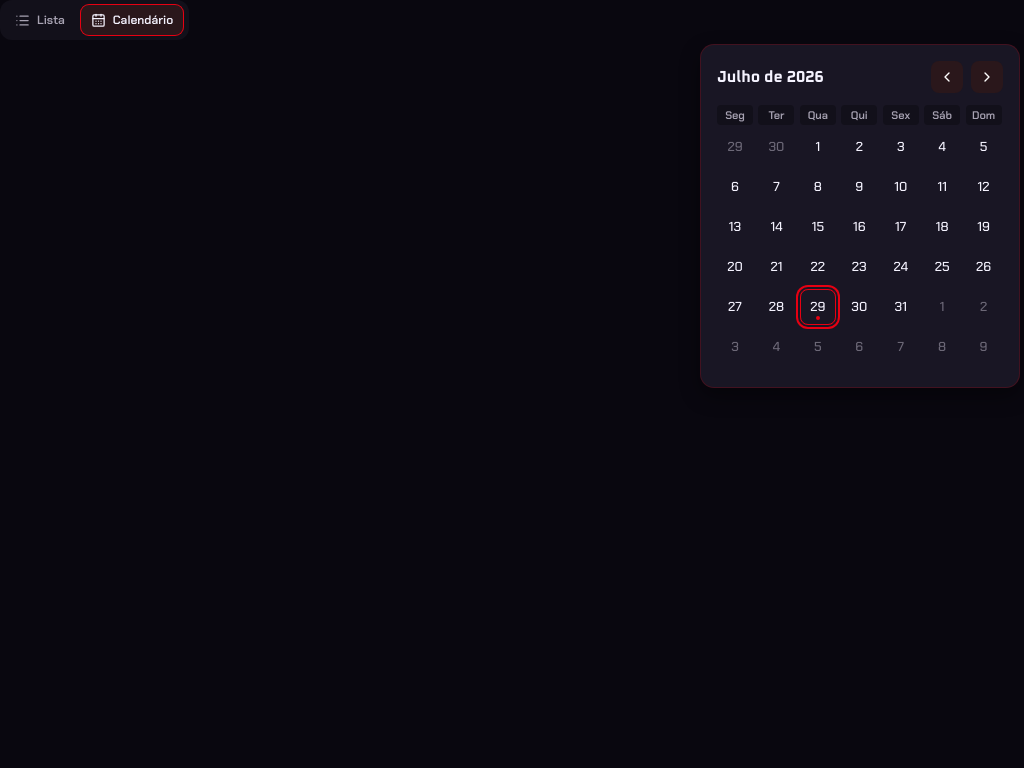
Scenario: ReleaseCalendarControl › closes when pointerdown happens outside the control
The width and height of the screenshot is (1024, 768).
Step 1. Press the mouse on the element that starts with "Lista" → (512, 384), box x1=0 y1=0 x2=1023 y2=767
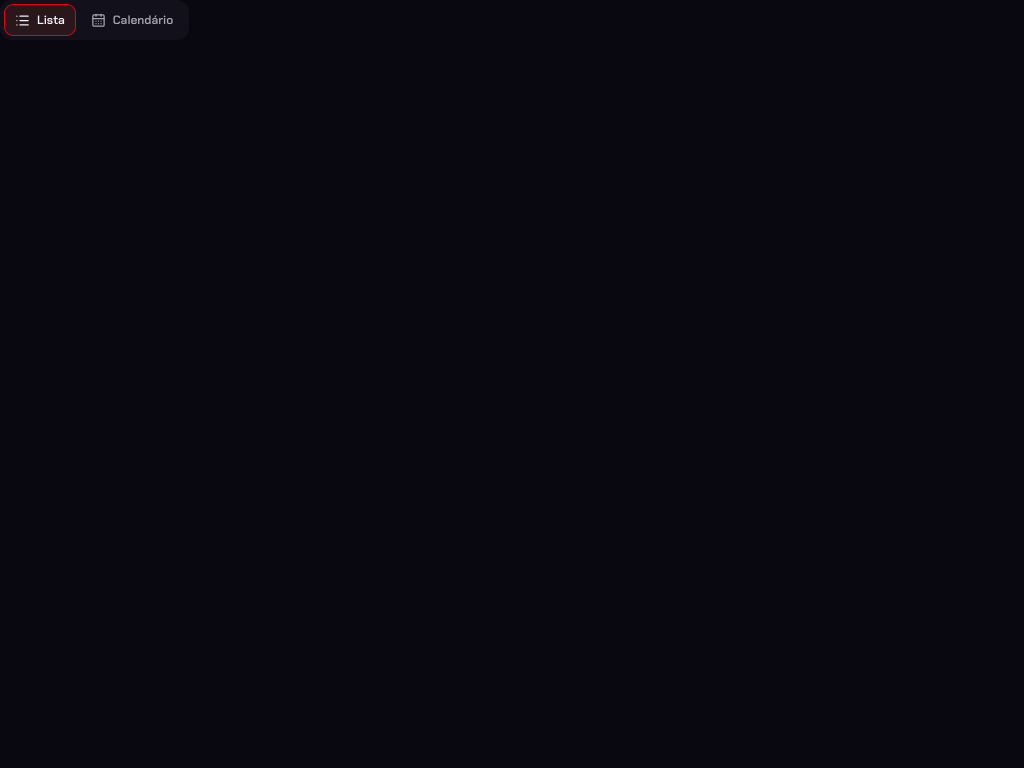
expect the dialog is gone: met
